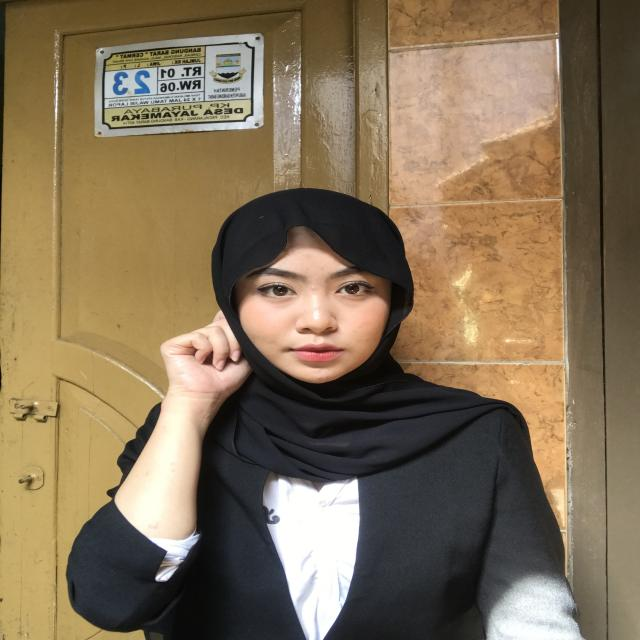ibu: (138, 305, 268, 487)
